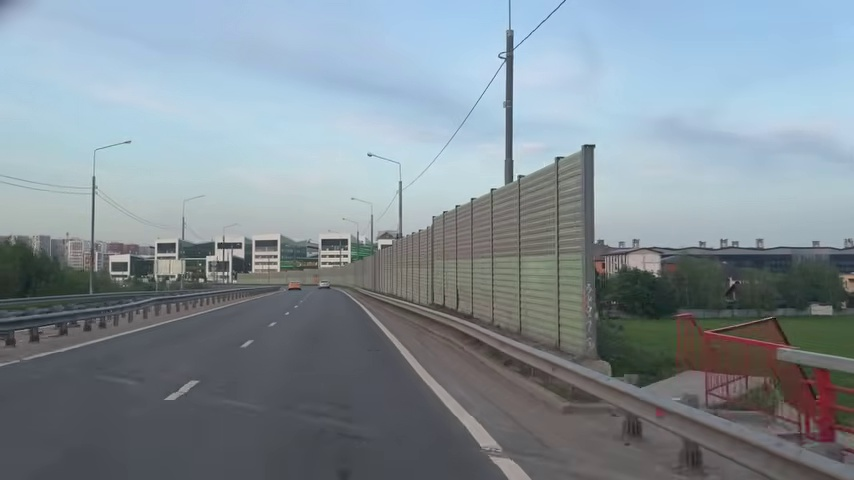apagada: (364, 149, 380, 163), (117, 136, 133, 149)
